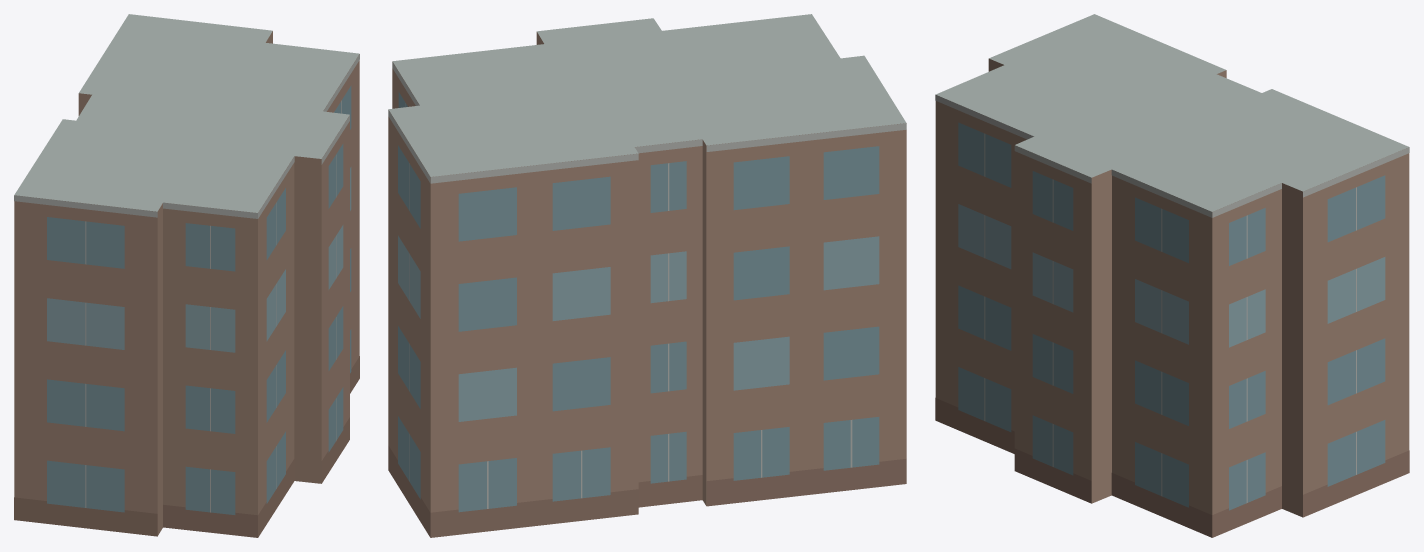
Rendered from survey-upis-32600214.glb.
The picture shows the model from 3 angles, left to right: view 1: azimuth 30°, elevation 25°; view 2: azimuth 150°, elevation 25°; view 3: azimuth 270°, elevation 25°; orthographic projection. The views are drawn at different scales.
Visible parts, largest first — view 1: survey-upis-32600214.tmp; view 2: survey-upis-32600214.tmp; view 3: survey-upis-32600214.tmp.
Boxes of the visible parts, x1,y1,x2,y2 form: survey-upis-32600214.tmp: (14, 14, 359, 537); survey-upis-32600214.tmp: (388, 14, 906, 537); survey-upis-32600214.tmp: (935, 14, 1409, 537).
Bounding box in the file's own units: 17.2 × 13.2 × 17.4.
